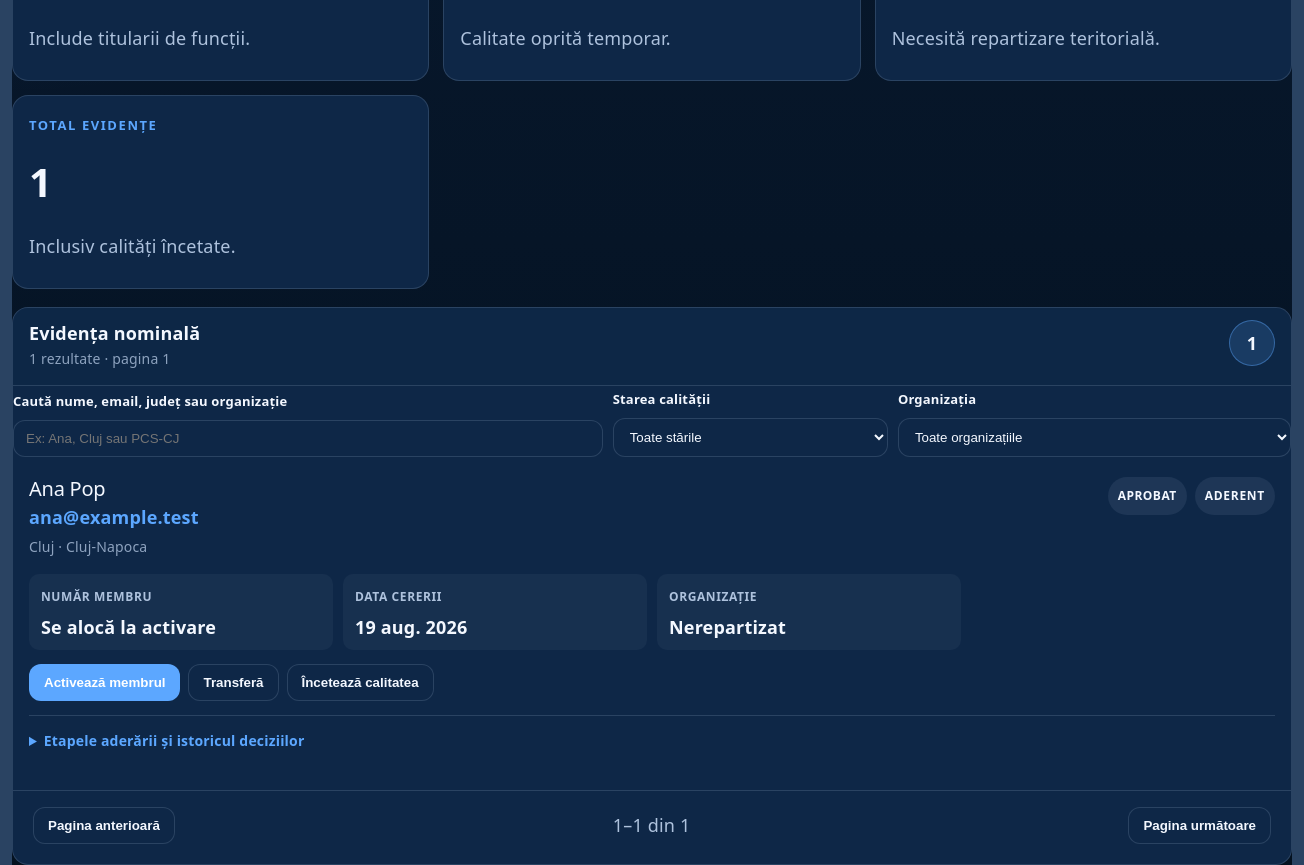
Test: AdminMembersDashboardPage › does not substitute fictitious members when real members exist but filters have no matches
(page scrolled)
Check: the heading "Ana Pop" is shown, box 29,475 -> 105,502
Type "no-match" into the field labelled "Caută nume, email, județ sau organizație" at (308, 438), box 13,420 -> 603,457
(page scrolled)
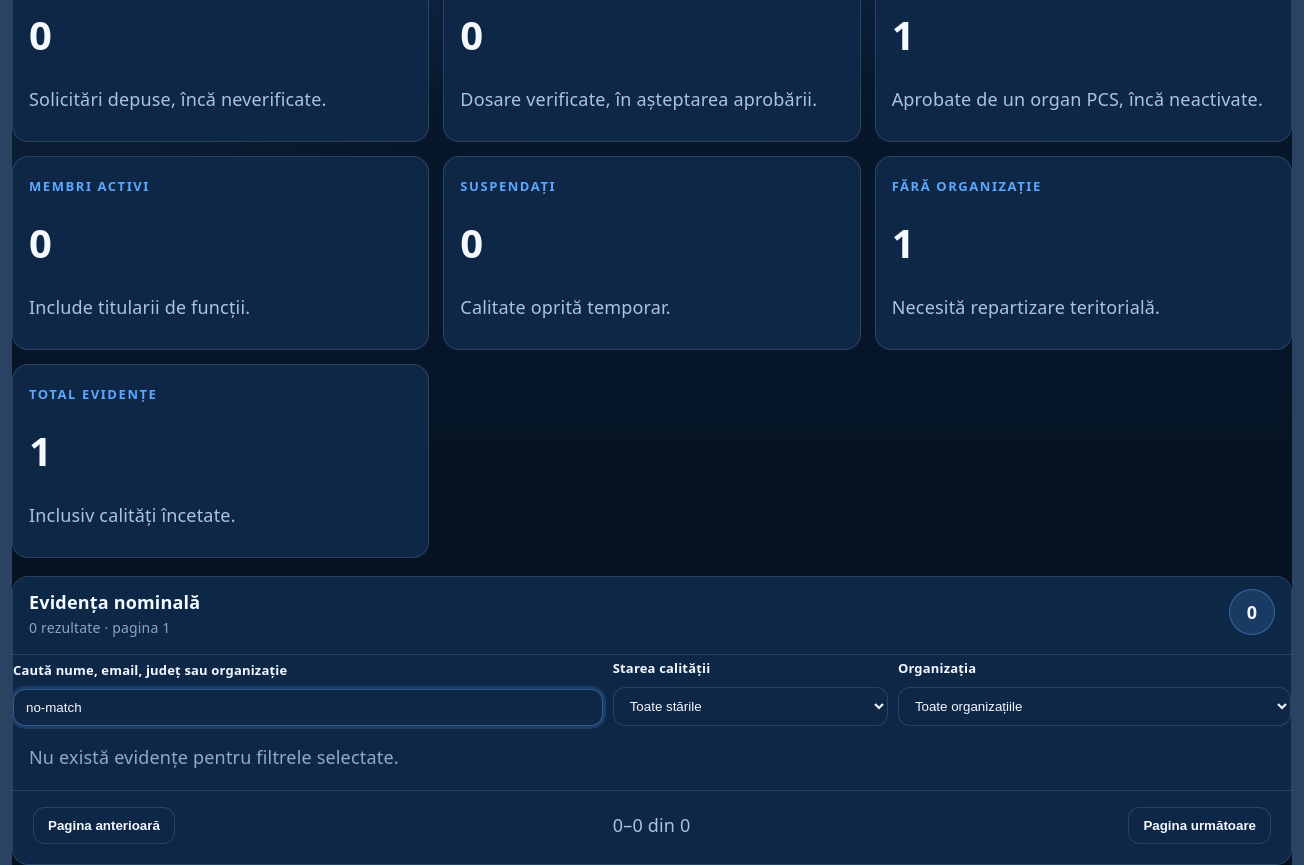
Check: the text "Nu există evidențe pentru filtrele selectate." is shown, box 29,745 -> 399,769
